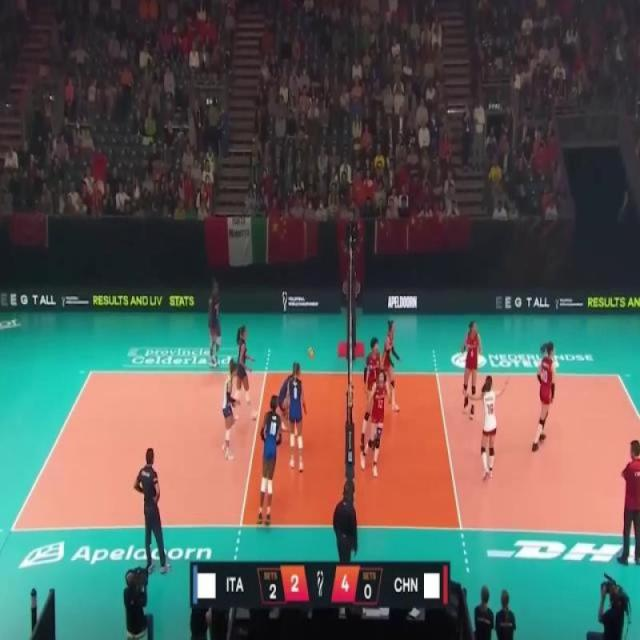volleyball: (308, 346, 316, 359)
